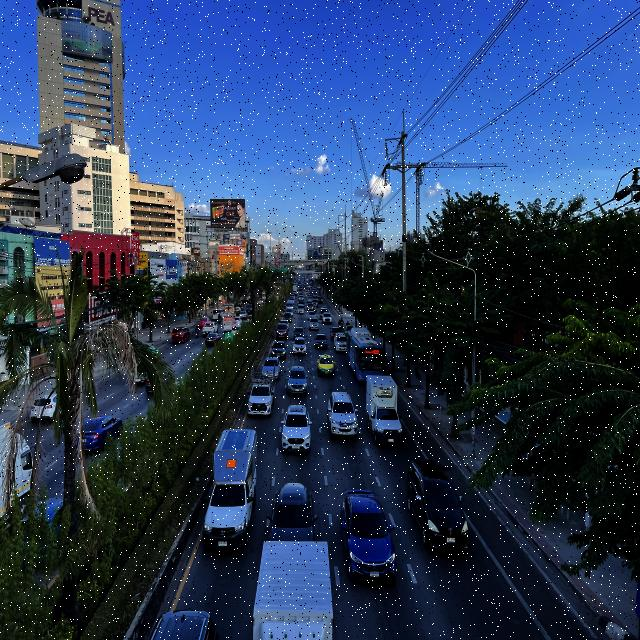bus: (346, 326, 386, 384)
car: (406, 458, 471, 554), (339, 488, 398, 586), (266, 482, 319, 545), (328, 390, 360, 441), (280, 404, 312, 454), (286, 366, 308, 396), (316, 354, 336, 378)
truck: (250, 542, 332, 640), (201, 428, 258, 555), (366, 376, 404, 448), (247, 362, 276, 418), (333, 332, 348, 353)
